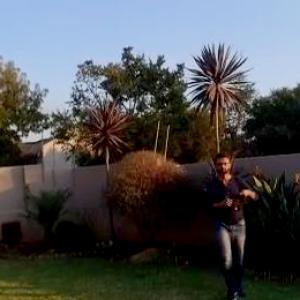follow: (200, 145, 266, 299)
